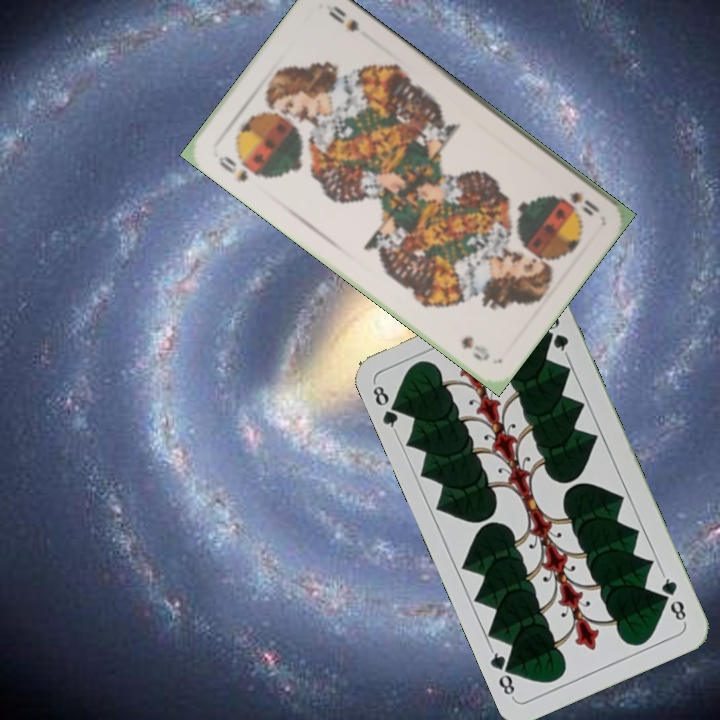G8: (368, 381, 405, 436), (657, 570, 689, 626)
SO: (214, 152, 263, 185), (555, 187, 603, 219)
